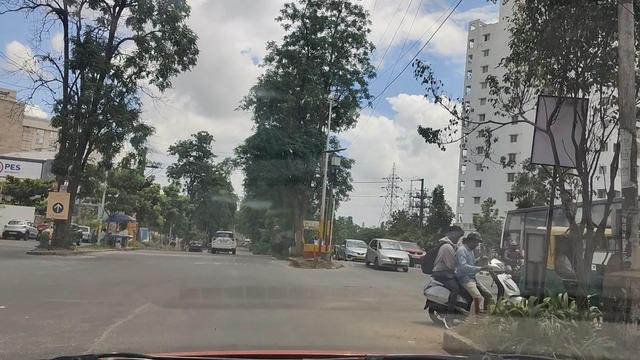RoadDamages: (85, 297, 148, 349)
